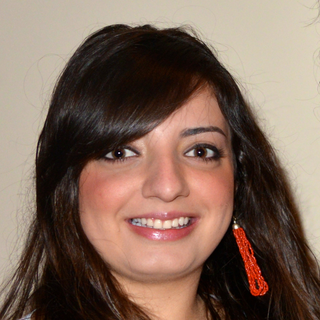eye: (93, 140, 140, 165), (179, 140, 224, 165)
